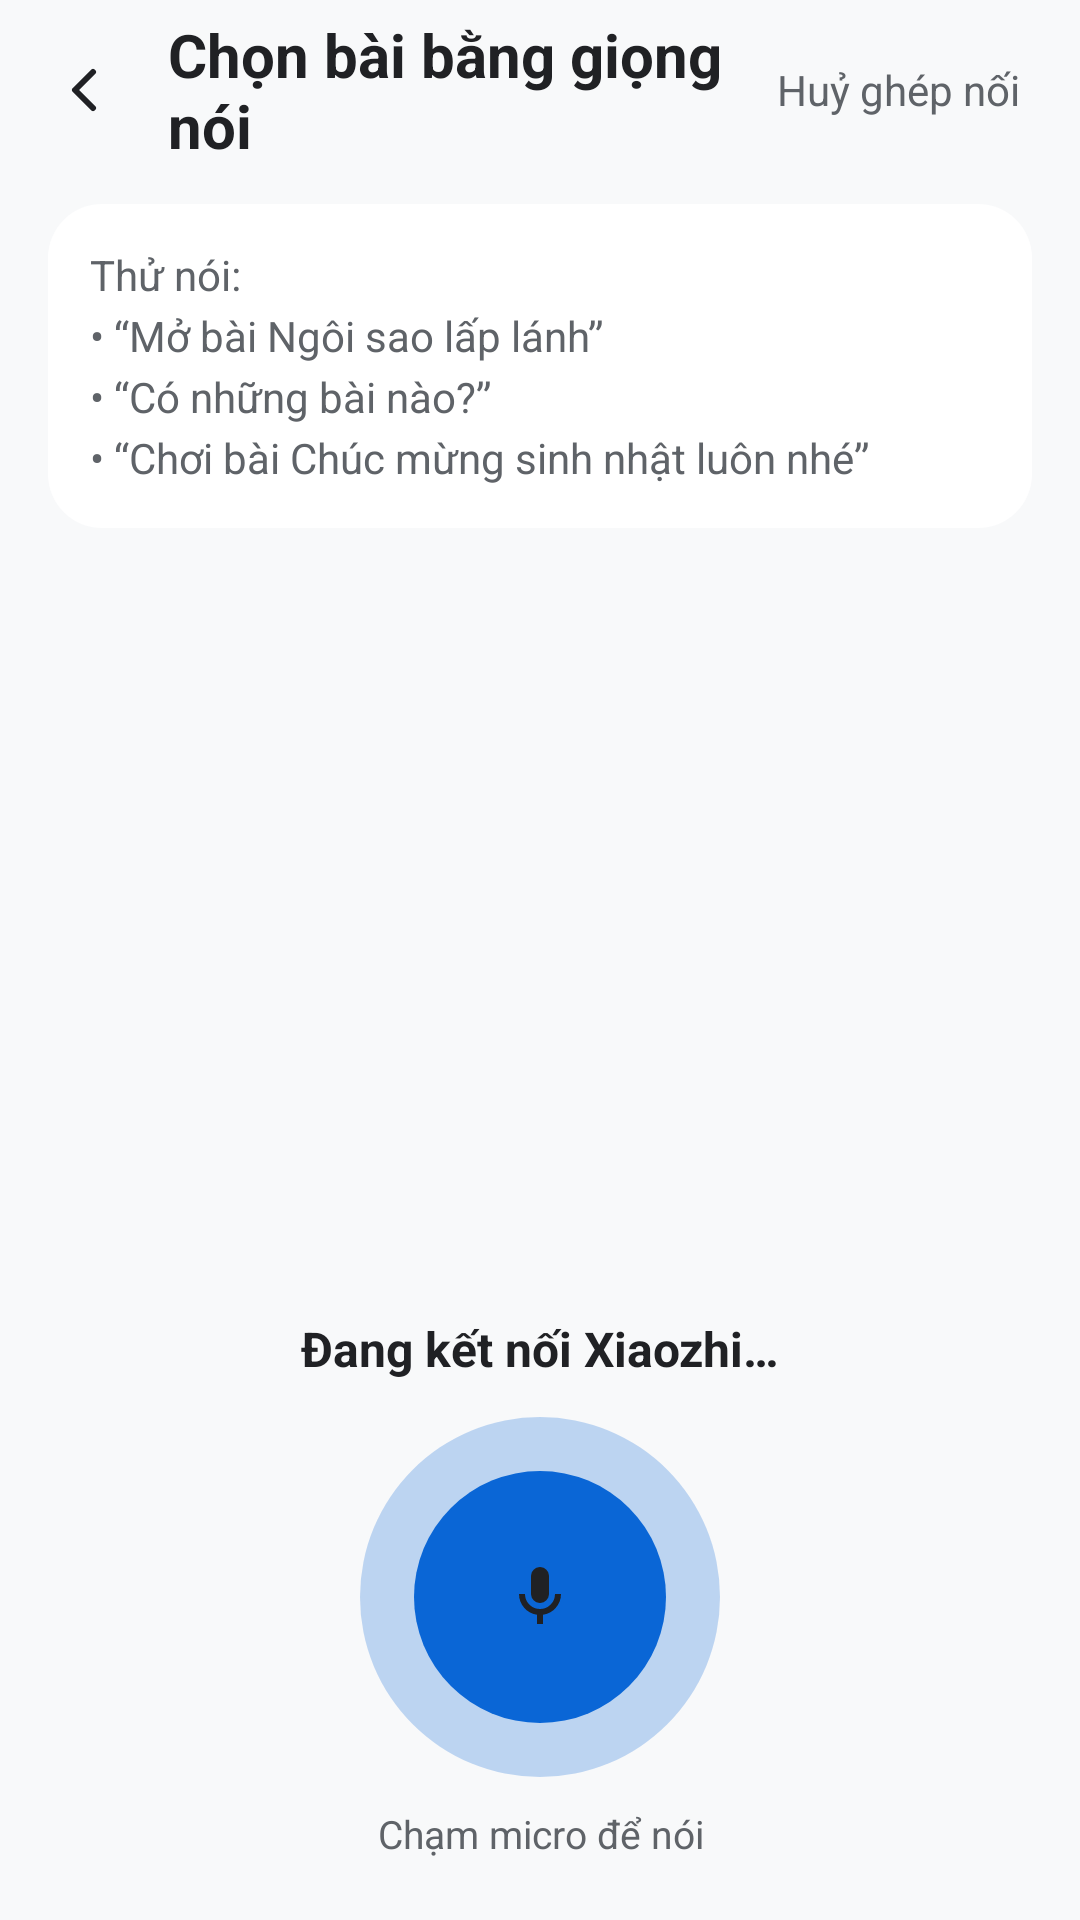

Where icons sit on this 1080x1920 app screen, as box=[x1, y1, x2, y2]:
Quay lại: box=[72, 69, 96, 111]
